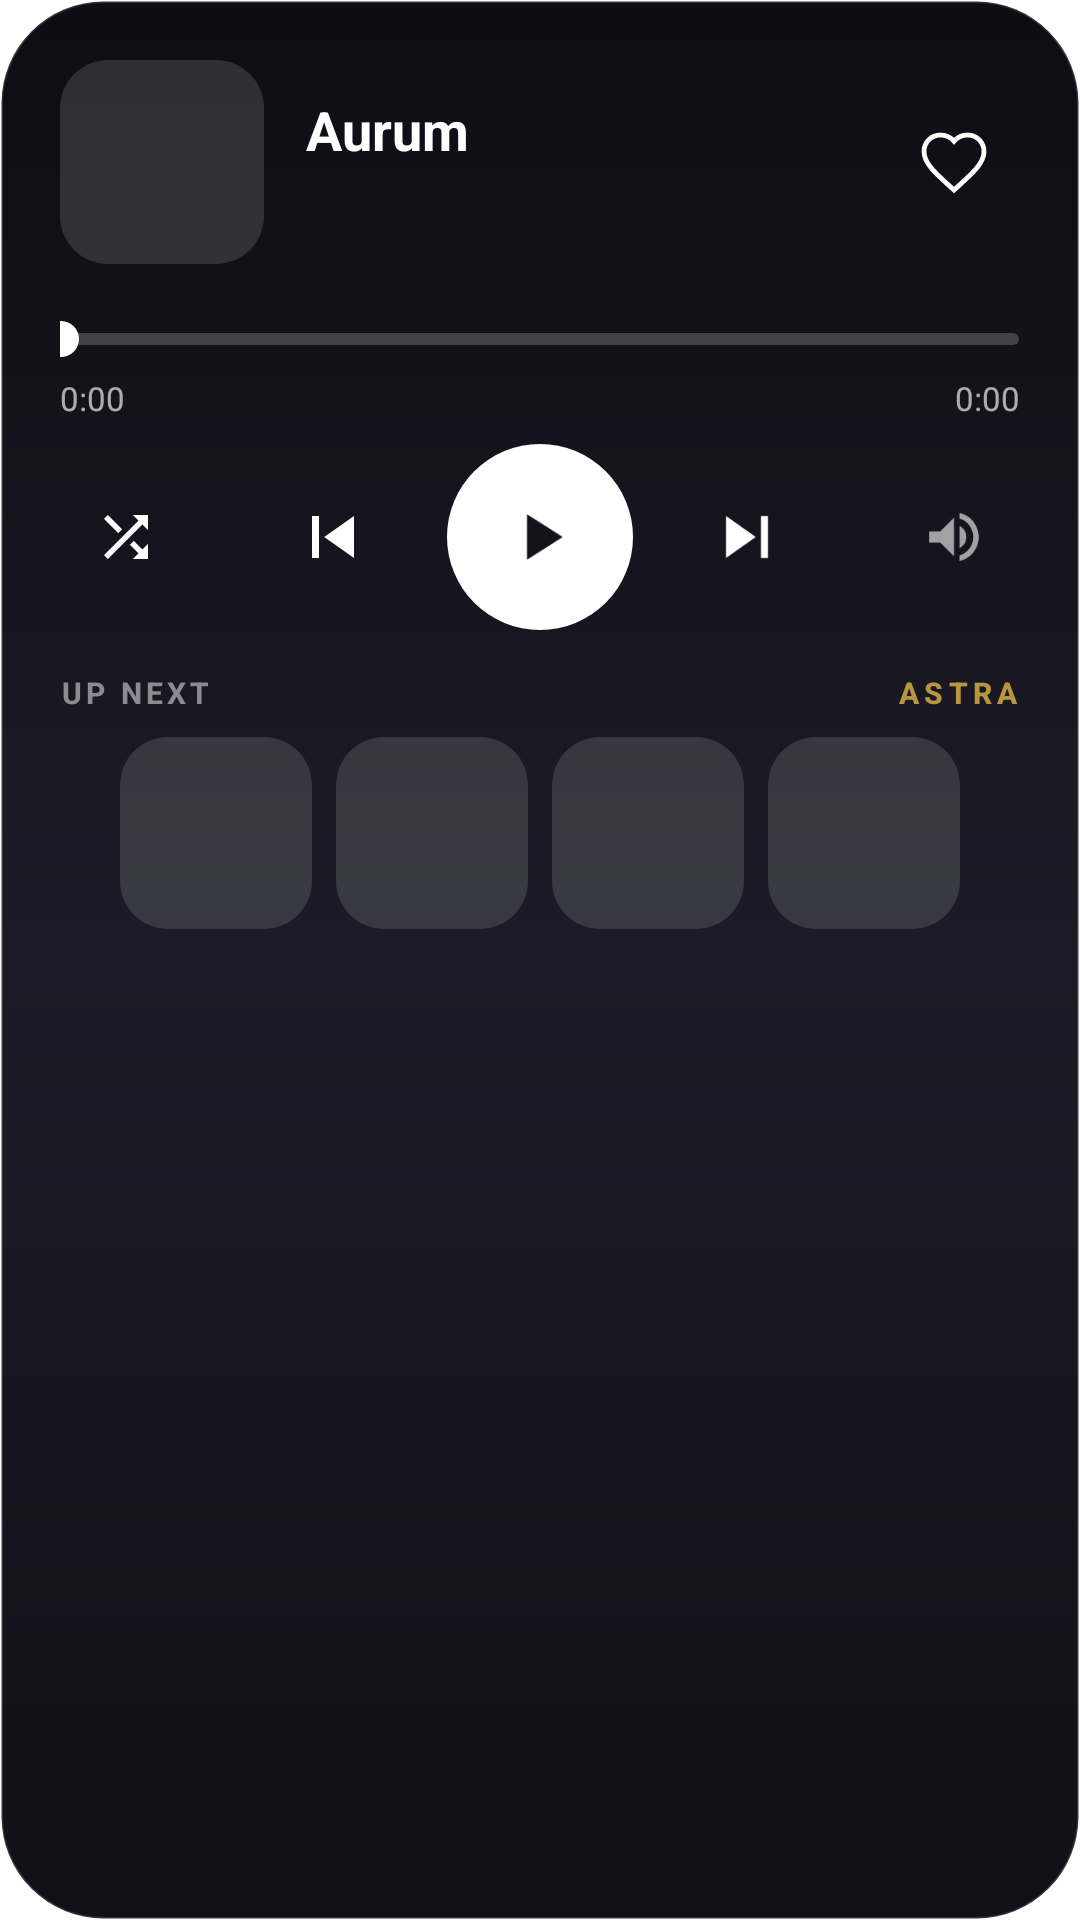

Named icons in this screenshot (1080*1920) and their centers, point (x, y):
Like: point (954, 162)
Play or pause: point (540, 537)
Previous: point (333, 537)
Shuffle: point (126, 537)
